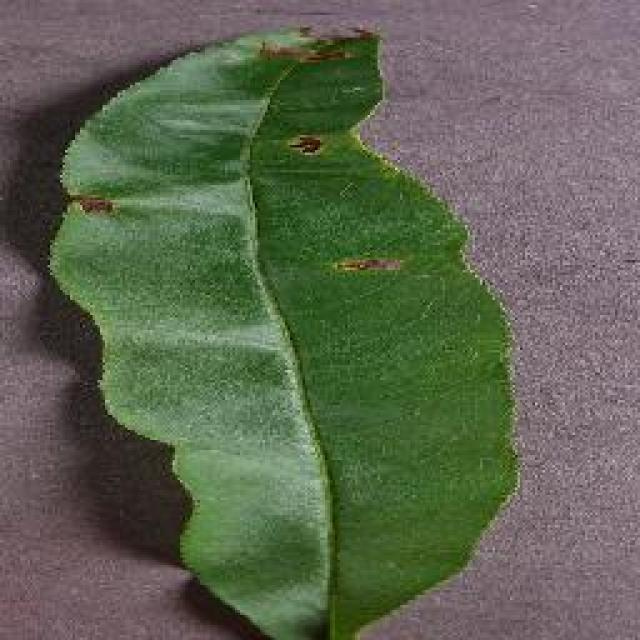Bacterial_spot: (329, 243, 415, 296), (252, 32, 347, 72), (281, 120, 348, 172)
